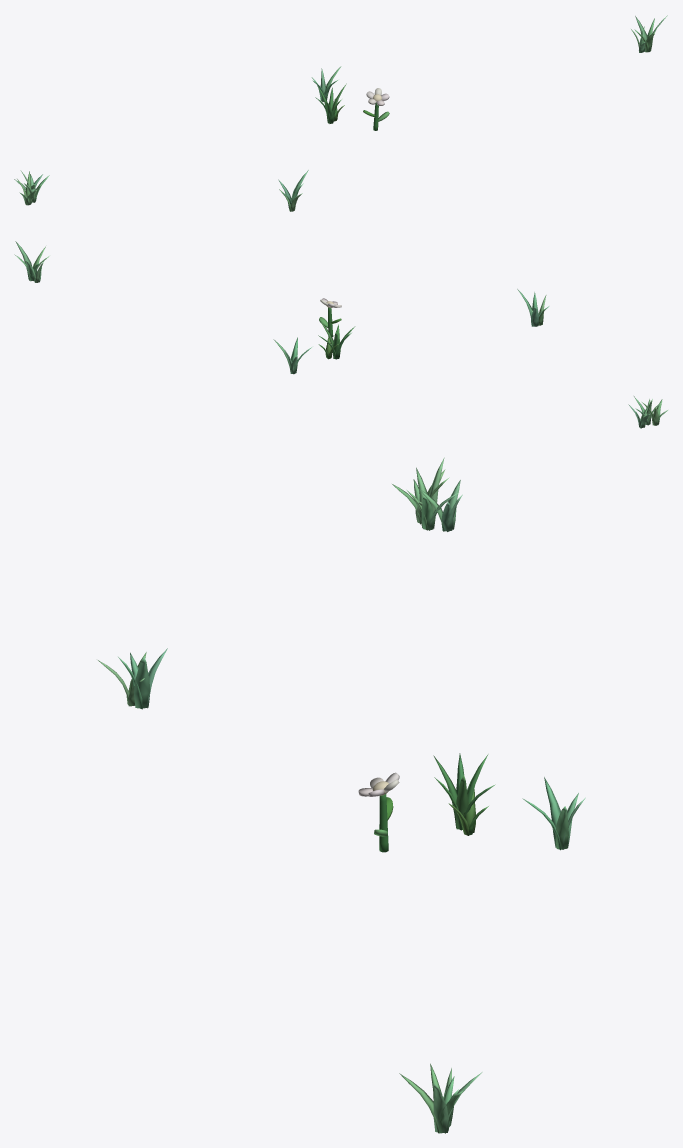
Rendered from W4_FloraRing_9_11.fbx.
The picture shows the model from 3 angles, top to bottom: view 1: azimuth 30°, elevation 25°; view 2: azimuth 150°, elevation 25°; view 3: azimuth 270°, elevation 25°; orthographic projection. The views are drawn at different scales.
Visible parts, largest first — view 1: W4_FloraRing_9_11; view 2: W4_FloraRing_9_11; view 3: W4_FloraRing_9_11.
Boxes of the visible parts, left/top/right/bottom form: W4_FloraRing_9_11: left=14, top=15, right=667, bottom=211; W4_FloraRing_9_11: left=14, top=241, right=667, bottom=428; W4_FloraRing_9_11: left=98, top=457, right=585, bottom=1133.
Size of the model in its own units: 2.56 by 0.1511 by 0.8387.
